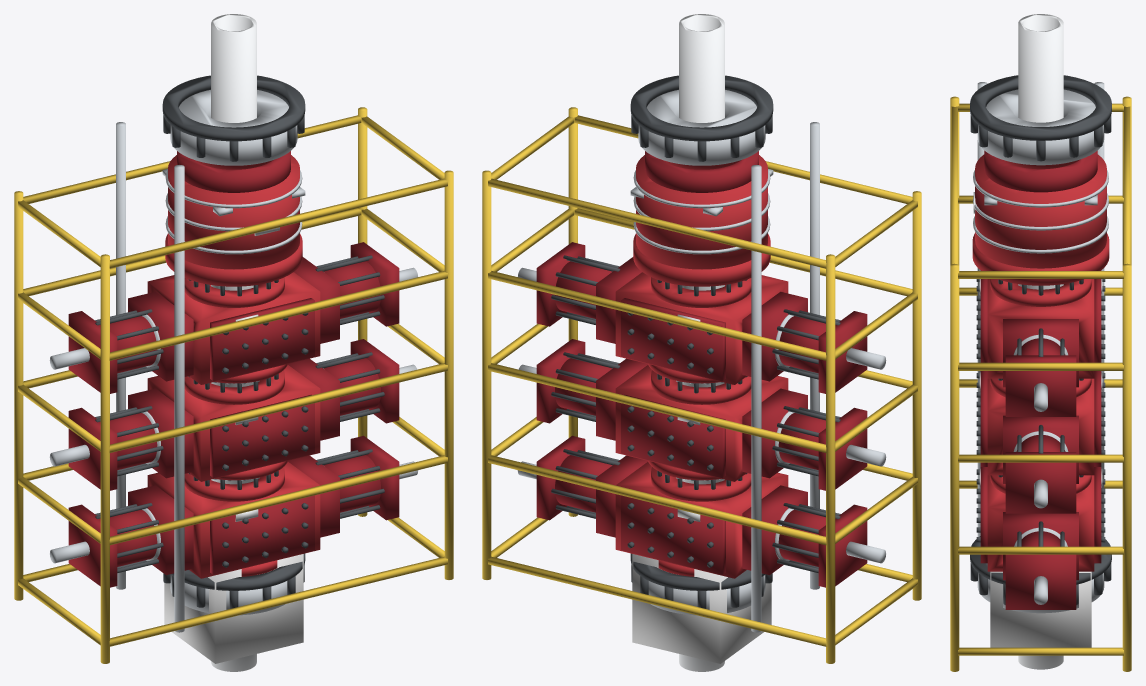
Rendered from bop_sim.glb.
3 renders of one model, left to right at view 1: azimuth 30°, elevation 25°; view 2: azimuth 150°, elevation 25°; view 3: azimuth 270°, elevation 25°, orthographic.
Visible parts, largest first — view 1: static_red2, static_yel, static_red, static_steel, static_dark, static_Material, mov_pipeup; view 2: static_red2, static_yel, static_red, static_steel, static_dark, static_Material, mov_pipeup; view 3: static_red2, static_red, static_yel, static_steel, static_dark, mov_pipeup, static_Material, static_chrome.
Part boxes in pixels (x1=…): static_red2: x1=68, y1=151, x2=399, y2=587; static_yel: x1=14, y1=107, x2=453, y2=663; static_red: x1=147, y1=155, x2=320, y2=578; static_steel: x1=49, y1=90, x2=418, y2=632; static_dark: x1=95, y1=75, x2=384, y2=608; static_Material: x1=164, y1=554, x2=303, y2=663; mov_pipeup: x1=211, y1=14, x2=256, y2=484; static_red2: x1=536, y1=151, x2=867, y2=587; static_yel: x1=482, y1=107, x2=921, y2=663; static_red: x1=615, y1=155, x2=788, y2=578; static_steel: x1=517, y1=90, x2=886, y2=632; static_dark: x1=551, y1=75, x2=840, y2=608; static_Material: x1=632, y1=554, x2=771, y2=663; mov_pipeup: x1=679, y1=14, x2=724, y2=484; static_red2: x1=980, y1=150, x2=1101, y2=609; static_red: x1=972, y1=154, x2=1109, y2=571; static_yel: x1=950, y1=96, x2=1131, y2=671; static_steel: x1=973, y1=82, x2=1108, y2=613; static_dark: x1=970, y1=75, x2=1111, y2=604; mov_pipeup: x1=1018, y1=14, x2=1063, y2=289; static_Material: x1=990, y1=571, x2=1091, y2=647; static_chrome: x1=1018, y1=655, x2=1063, y2=669.
Bounding box in the file's own units: 8.2 × 13.85 × 3.58.
